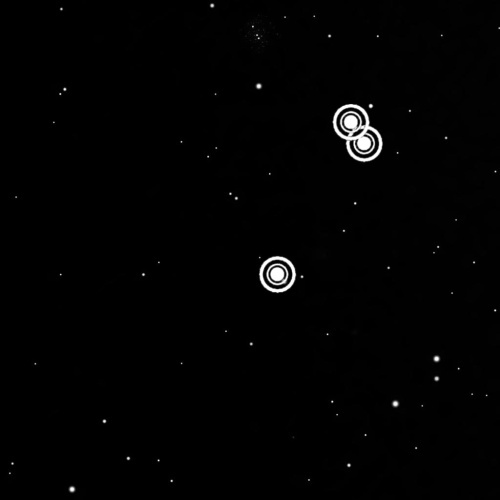canis_minor: (251, 90, 399, 300)
